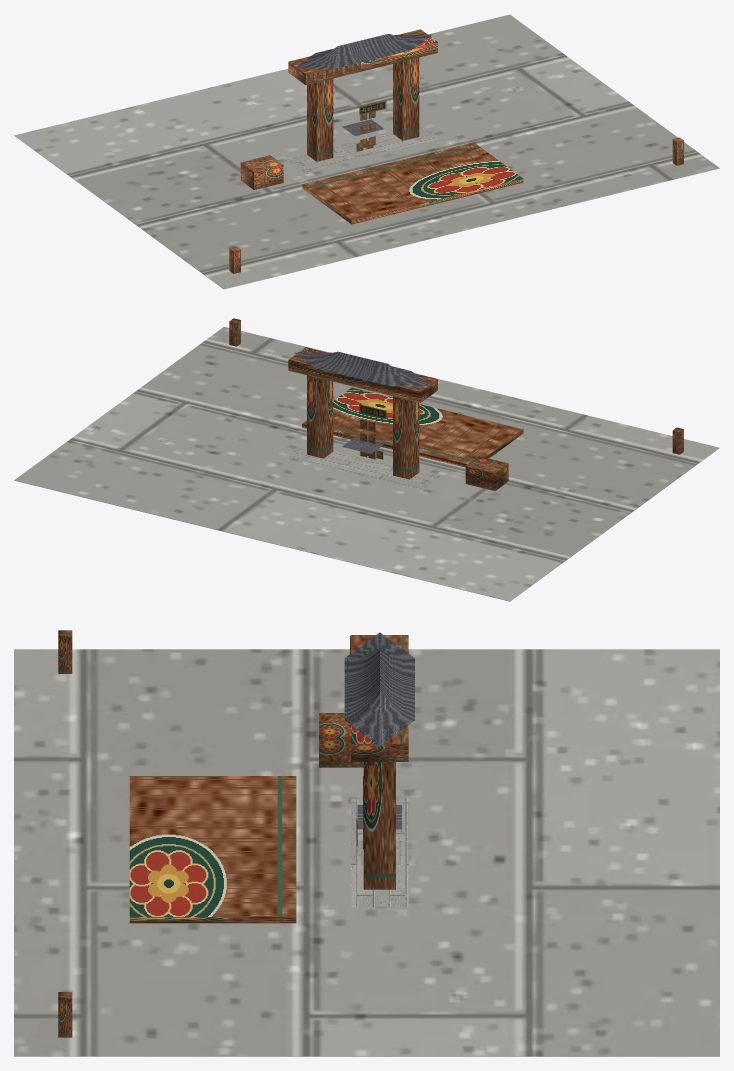
3 views of the same model, one above another, from view 1: azimuth 30°, elevation 25°; view 2: azimuth 150°, elevation 25°; view 3: azimuth 270°, elevation 25° (orthographic). The views are drawn at different scales.
Parts seen in each view (by area): view 1: 11710_01_05540_010_01_L2__base, 11710_01_05540_010_02_L2__body, 11710_01_05540_010_03_L2__roof, 11710_01_05540_010_05_L2__openings, 11710_01_05540_010_06_L2__green; view 2: 11710_01_05540_010_01_L2__base, 11710_01_05540_010_02_L2__body, 11710_01_05540_010_03_L2__roof, 11710_01_05540_010_06_L2__green, 11710_01_05540_010_05_L2__openings; view 3: 11710_01_05540_010_01_L2__base, 11710_01_05540_010_02_L2__body, 11710_01_05540_010_03_L2__roof, 11710_01_05540_010_06_L2__green.
Part boxes in pixels (x1,y1,x2,y2): 11710_01_05540_010_01_L2__base: (14, 14, 719, 289); 11710_01_05540_010_02_L2__body: (240, 29, 523, 224); 11710_01_05540_010_03_L2__roof: (294, 34, 432, 135); 11710_01_05540_010_05_L2__openings: (307, 62, 375, 151); 11710_01_05540_010_06_L2__green: (229, 137, 683, 273); 11710_01_05540_010_01_L2__base: (14, 326, 719, 601); 11710_01_05540_010_02_L2__body: (288, 347, 523, 490); 11710_01_05540_010_03_L2__roof: (294, 351, 431, 453); 11710_01_05540_010_06_L2__green: (229, 318, 683, 454); 11710_01_05540_010_05_L2__openings: (360, 373, 436, 459); 11710_01_05540_010_01_L2__base: (14, 649, 719, 1056); 11710_01_05540_010_02_L2__body: (129, 635, 408, 923); 11710_01_05540_010_03_L2__roof: (344, 632, 414, 829); 11710_01_05540_010_06_L2__green: (58, 630, 72, 1037).
Bounding box in the file's own units: 150 × 31.6 × 110.
5 materials, 5 textured.
